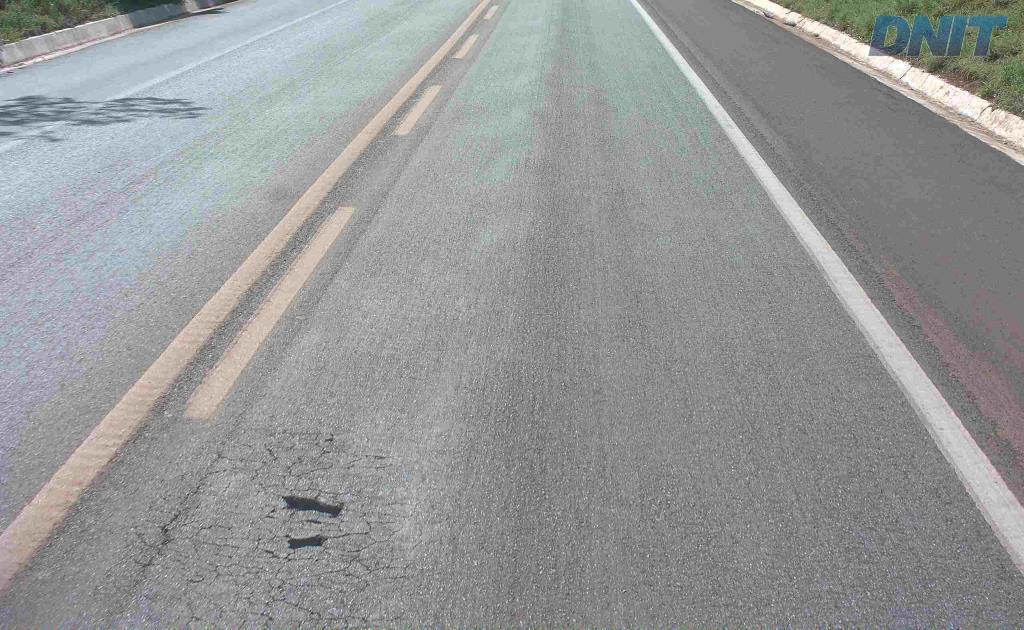crack: (133, 506, 191, 579)
pothole: (275, 486, 347, 523), (279, 530, 334, 558)
